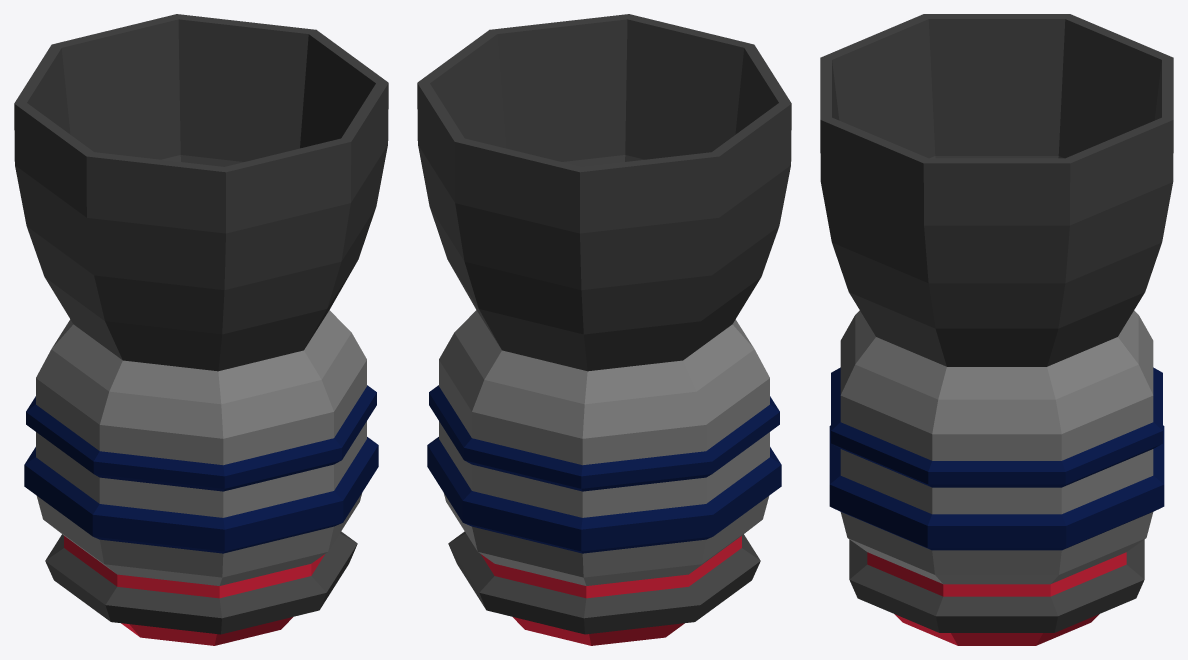
The model's file is thruster3.fbx.
The picture shows the model from 3 angles, left to right: view 1: azimuth 30°, elevation 25°; view 2: azimuth 150°, elevation 25°; view 3: azimuth 270°, elevation 25°; orthographic projection.
Parts seen in each view (by area): view 1: Thruster3; view 2: Thruster3; view 3: Thruster3.
Boxes of the visible parts, x1,y1,x2,y2 form: Thruster3: (14, 14, 388, 645); Thruster3: (417, 14, 791, 645); Thruster3: (820, 14, 1173, 645).
Bounding box in the file's own units: 124 × 201 × 124.
